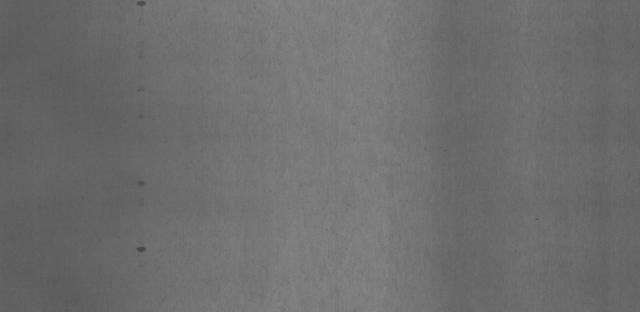oil_spot: (133, 240, 147, 263), (132, 177, 150, 188), (132, 1, 148, 11)
